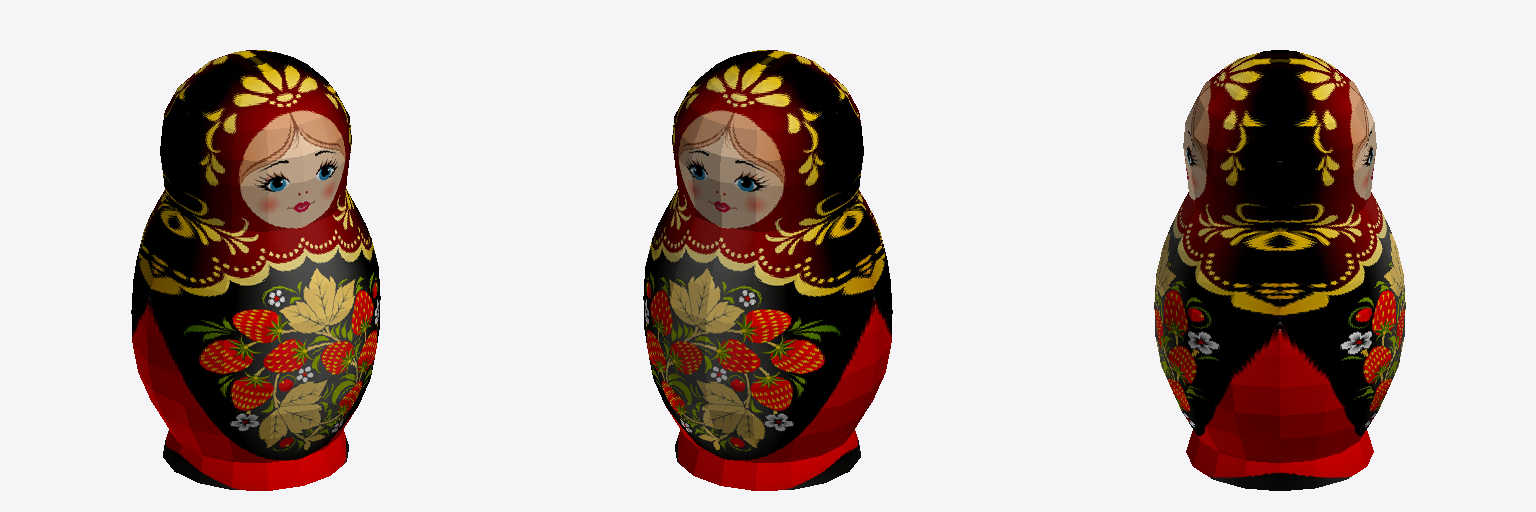
The picture shows the model from 3 angles: view 1: azimuth 30°, elevation 25°; view 2: azimuth 150°, elevation 25°; view 3: azimuth 270°, elevation 25°; orthographic projection.
Parts seen in each view (by area): view 1: down, up; view 2: down, up; view 3: down, up.
Part boxes in pixels (x1,y1,x2,y2): down: (131, 236, 380, 490); up: (140, 50, 371, 293); down: (643, 236, 892, 490); up: (652, 50, 883, 293); down: (1154, 246, 1405, 490); up: (1163, 50, 1396, 294).
Size of the model in its own units: 2.31 by 3.98 by 2.31.
1 materials, 1 textured.